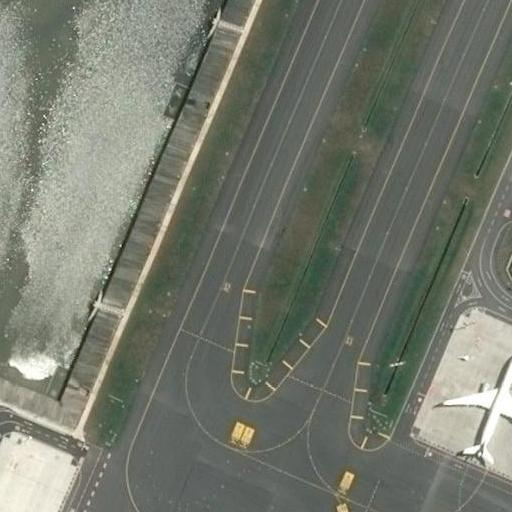Aircraft: (439, 350, 512, 464)
